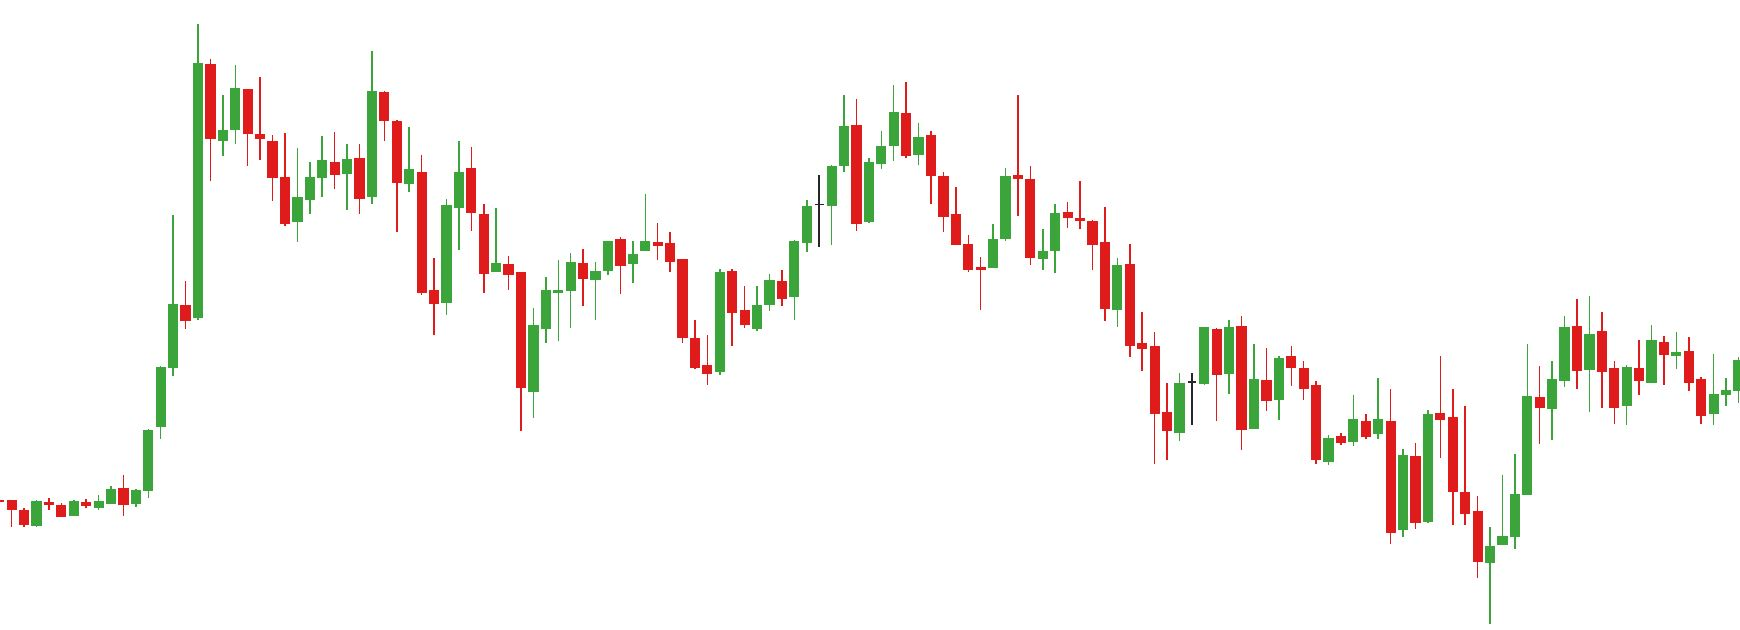buy: (1384, 459, 1509, 621), (589, 258, 726, 389)
sell: (255, 49, 390, 176), (838, 83, 913, 199)
